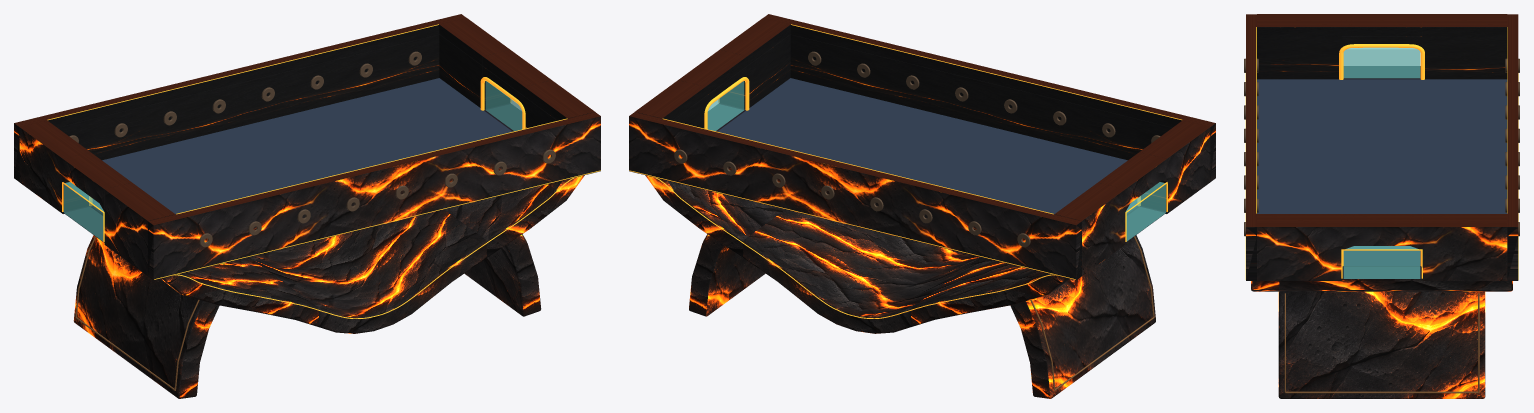
File: fuzeball_table_circuit_solar_forge.glb
The picture shows the model from 3 angles, left to right: view 1: azimuth 30°, elevation 25°; view 2: azimuth 150°, elevation 25°; view 3: azimuth 270°, elevation 25°; orthographic projection. The views are drawn at different scales.
Visible parts, largest first — view 1: table_base.001, wall_side_near.001, field.001, wall_side_far.001, wall_end_l_far.001, wall_end_r_far.001, wall_end_l_near.001, wall_end_r_near.001, goal_frame_header_l.001, goal_frame_header_r.001, goal_net_left.001, goal_net_right.001 (+6 smaller); view 2: table_base.001, wall_side_far.001, field.001, wall_side_near.001, wall_end_l_near.001, wall_end_r_near.001, wall_end_l_far.001, wall_end_r_far.001, goal_frame_header_l.001, goal_frame_header_r.001, goal_net_left.001, goal_net_right.001 (+6 smaller); view 3: field.001, table_base.001, wall_end_r_far.001, wall_end_r_near.001, wall_end_l_far.001, wall_end_l_near.001, wall_side_far.001, wall_side_near.001, goal_frame_header_r.001, goal_net_right.001, goal_frame_header_l.001, goal_net_left.001 (+5 smaller).
Part boxes in pixels (x1,y1,x2,y2): table_base.001: [73, 175, 584, 398]; wall_side_near.001: [148, 112, 600, 280]; field.001: [92, 78, 512, 214]; wall_side_far.001: [14, 14, 466, 181]; wall_end_l_far.001: [19, 120, 90, 213]; wall_end_r_far.001: [439, 18, 509, 108]; wall_end_l_near.001: [104, 182, 175, 275]; wall_end_r_near.001: [524, 80, 594, 128]; goal_frame_header_l.001: [63, 152, 131, 211]; goal_frame_header_r.001: [483, 49, 551, 107]; goal_net_left.001: [64, 182, 104, 241]; goal_net_right.001: [485, 81, 522, 131]; table_base.001: [645, 175, 1155, 398]; wall_side_far.001: [629, 112, 1081, 280]; field.001: [717, 78, 1137, 214]; wall_side_near.001: [763, 14, 1215, 181]; wall_end_l_near.001: [1139, 120, 1210, 213]; wall_end_r_near.001: [720, 18, 790, 108]; wall_end_l_far.001: [1054, 182, 1125, 275]; wall_end_r_far.001: [635, 80, 705, 128]; goal_frame_header_l.001: [1098, 152, 1166, 211]; goal_frame_header_r.001: [678, 49, 746, 107]; goal_net_left.001: [1125, 182, 1165, 241]; goal_net_right.001: [707, 81, 744, 131]; field.001: [1257, 79, 1507, 265]; table_base.001: [1251, 279, 1512, 398]; wall_end_r_far.001: [1422, 214, 1507, 280]; wall_end_r_near.001: [1257, 214, 1341, 280]; wall_end_l_far.001: [1422, 14, 1507, 79]; wall_end_l_near.001: [1257, 14, 1341, 79]; wall_side_far.001: [1507, 14, 1518, 280]; wall_side_near.001: [1246, 14, 1256, 280]; goal_frame_header_r.001: [1341, 214, 1422, 249]; goal_net_right.001: [1343, 246, 1420, 278]; goal_frame_header_l.001: [1341, 14, 1422, 47]; goal_net_left.001: [1343, 47, 1420, 78].
Size of the model in its own units: 138 by 58.33 by 74.9.
11 materials, 4 textured.
